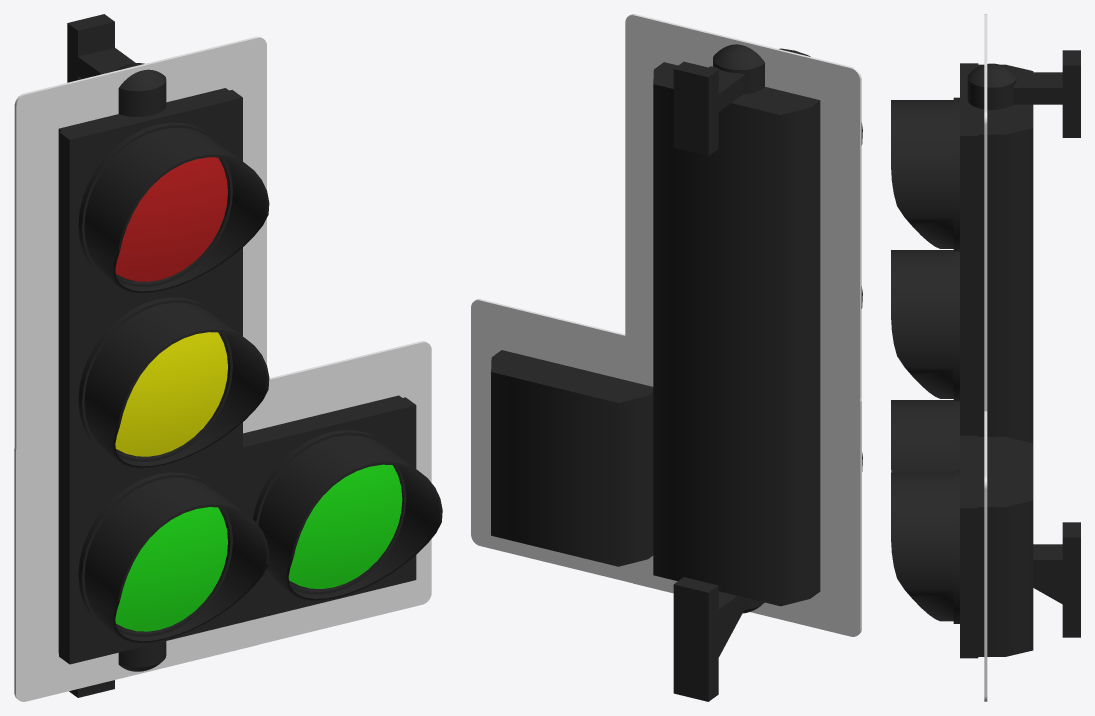
File: model_trafficLight (5).FBX
3 renders of one model, left to right at view 1: azimuth 30°, elevation 25°; view 2: azimuth 150°, elevation 25°; view 3: azimuth 270°, elevation 25°, orthographic. The views are drawn at different scales.
Parts seen in each view (by area): view 1: Svetofor, Ekran, 004, 1, 3, 2; view 2: Svetofor, Ekran; view 3: Svetofor, Ekran.
Boxes of the visible parts, x1,y1,x2,y2 form: Svetofor: (58,14,442,697); Ekran: (14,36,431,701); 004: (288,464,402,588); 1: (115,507,227,631); 3: (115,157,227,281); 2: (115,332,227,456); Svetofor: (491,44,862,701); Ekran: (471,14,861,636); Svetofor: (891,50,1080,658); Ekran: (984,14,987,701).
Size of the model in its own units: 34.22 by 52.47 by 15.79.
